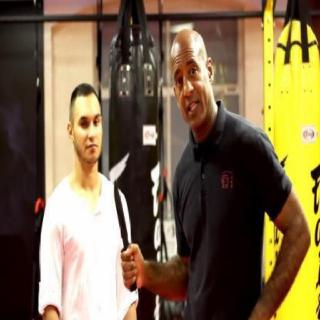knife: (111, 173, 140, 297)
